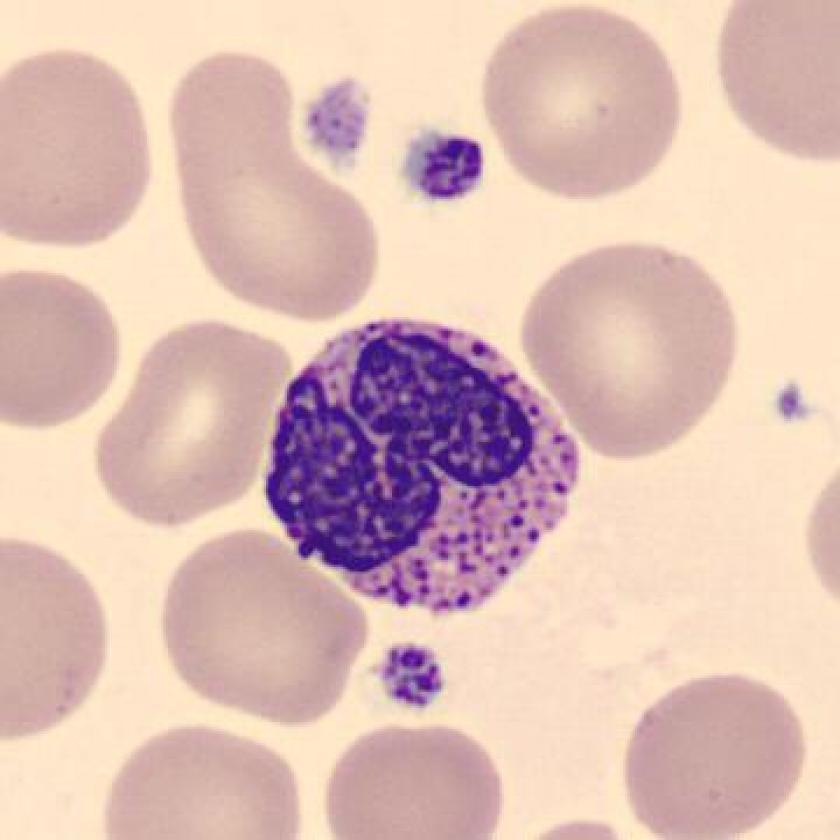basophil: (260, 295, 589, 630)
